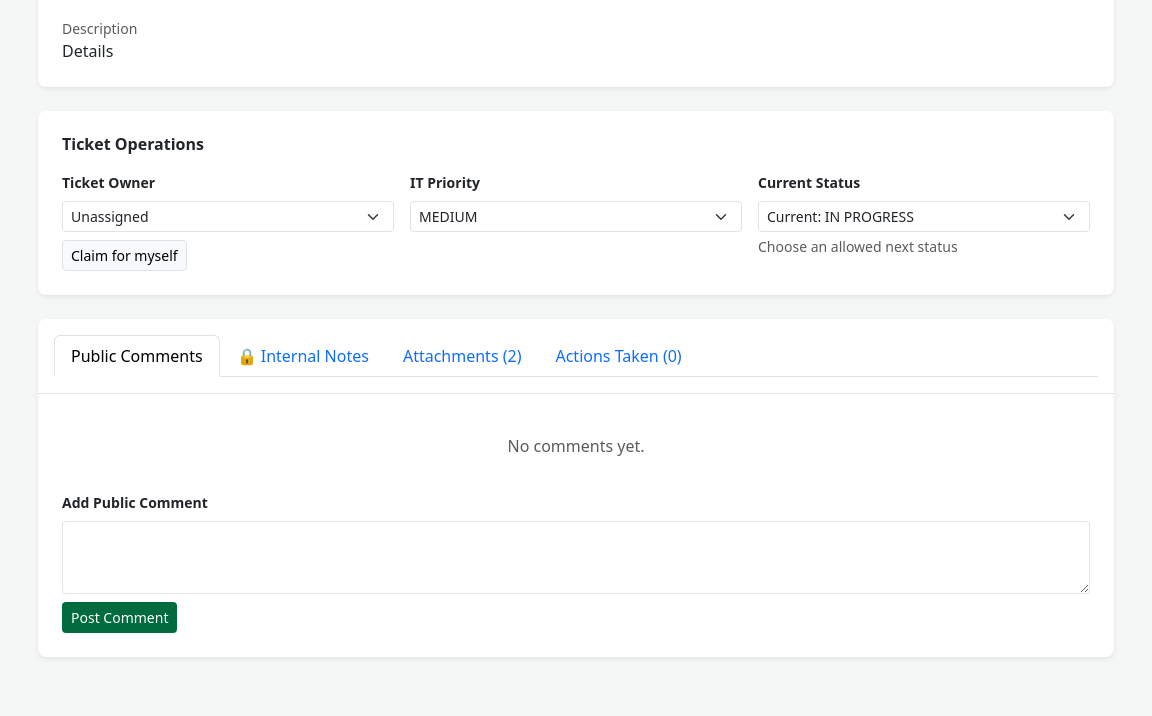
Test: StaffTicketDetailPage › shows active and removed attachments with the removal reason
(page scrolled)
Click the tab "Attachments (2)".
click(462, 356)  # box 386,335 -> 538,377
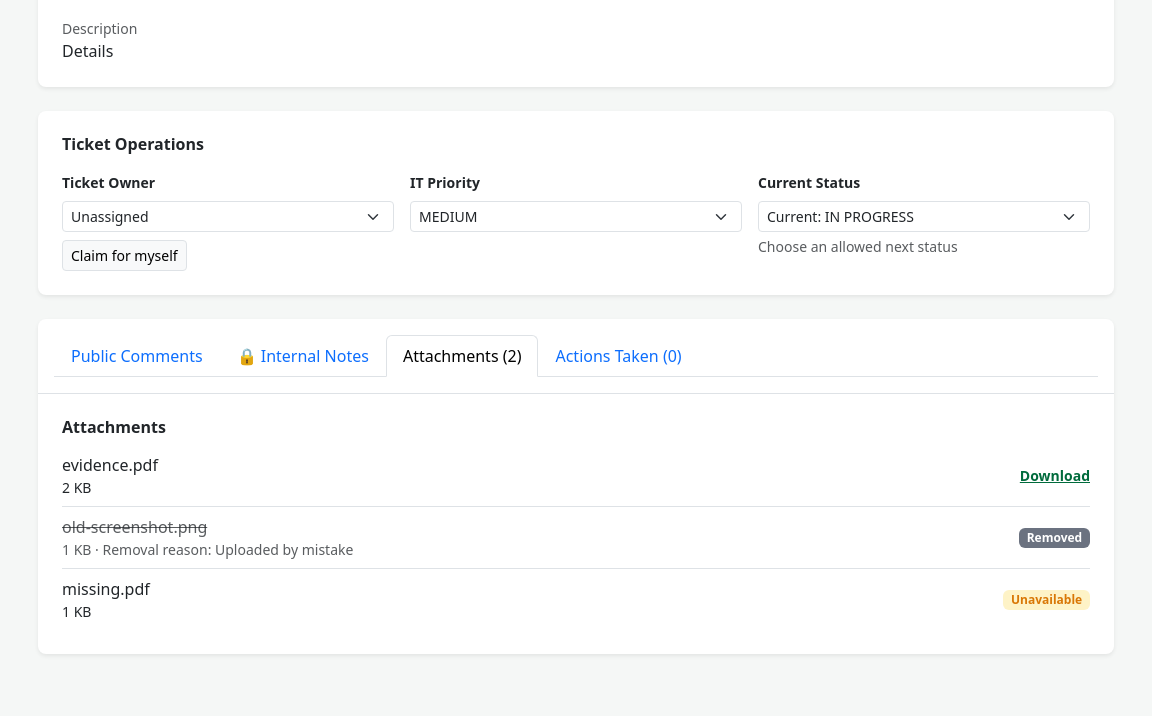
Now the text "evidence.pdf" is shown, box 62,453 -> 158,477
Now the text "old-screenshot.png" is shown, box 62,516 -> 207,538
Now the text "1 KB · Removal reason: Uploaded by mistake" is shown, box 62,539 -> 353,560
